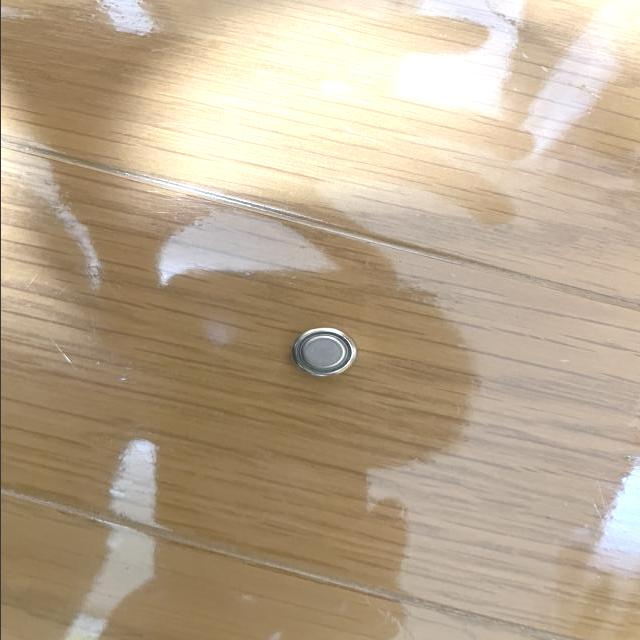COIN: (290, 326, 356, 378)
